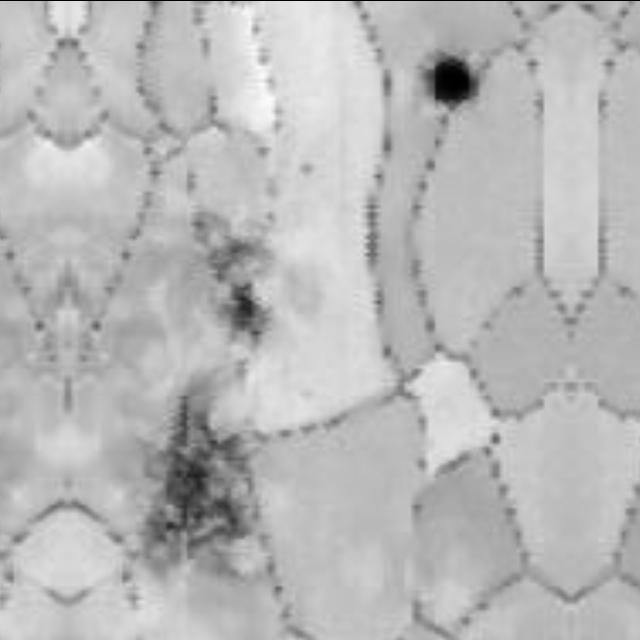good_void: (120, 392, 269, 569), (206, 270, 286, 351), (197, 221, 258, 288), (421, 48, 485, 111), (181, 194, 238, 250)
